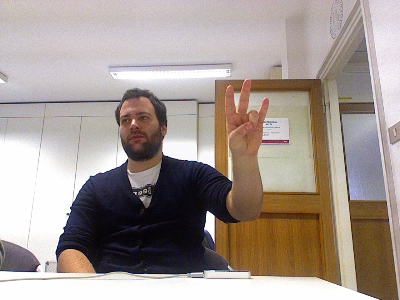观音: (223, 78, 269, 159)
